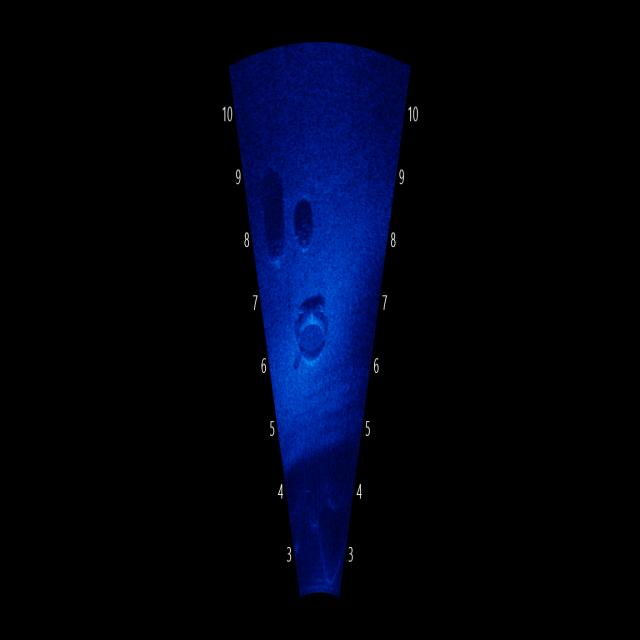circle: (288, 288, 337, 388), (288, 197, 335, 264), (257, 210, 298, 272)
